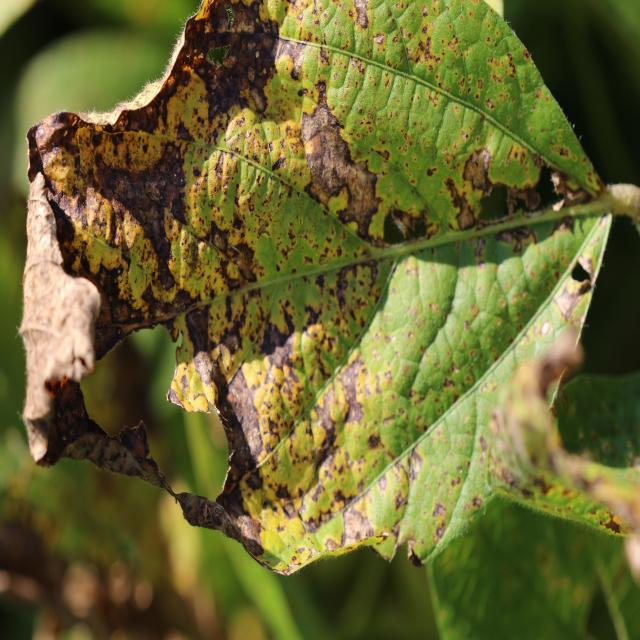Bacterial_Blight: (295, 94, 392, 245), (176, 333, 252, 496), (192, 8, 282, 119), (308, 354, 357, 463), (22, 173, 64, 290), (26, 110, 84, 187), (537, 328, 587, 398), (45, 376, 91, 447), (553, 271, 594, 329), (545, 164, 596, 209), (89, 318, 136, 361), (213, 0, 265, 33), (117, 419, 152, 468), (183, 305, 214, 360), (604, 181, 640, 227), (21, 413, 51, 464), (493, 223, 540, 255), (462, 147, 493, 194), (341, 507, 371, 546), (230, 241, 257, 281), (506, 183, 541, 213), (210, 223, 231, 254), (575, 255, 596, 283), (44, 376, 68, 396), (407, 542, 424, 567), (167, 386, 185, 409), (354, 2, 369, 29), (432, 501, 447, 519), (478, 434, 488, 453), (373, 33, 385, 47)
Soybean: (19, 0, 612, 578)
